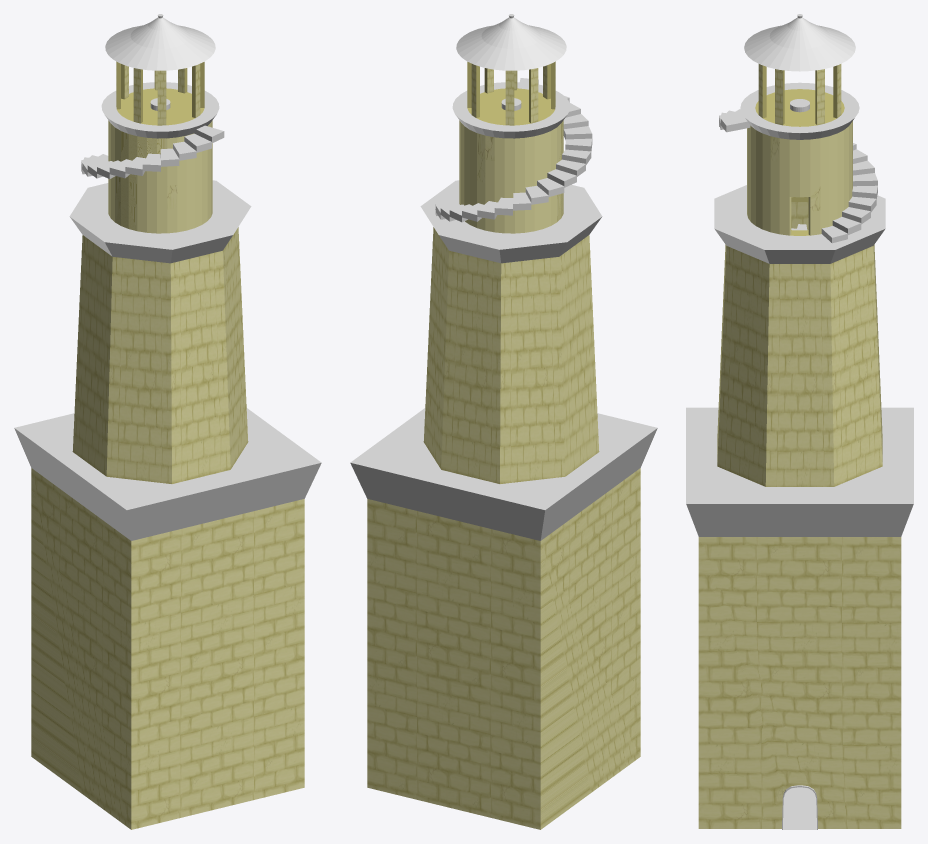
File: Lighthous.fbx
The picture shows the model from 3 angles, left to right: view 1: azimuth 30°, elevation 25°; view 2: azimuth 150°, elevation 25°; view 3: azimuth 270°, elevation 25°; orthographic projection.
Visible parts, largest first — view 1: Circle.001, Curved Stairs.003; view 2: Circle.001, Curved Stairs.003; view 3: Circle.001, Curved Stairs.003.
Boxes of the visible parts, x1=… form: Circle.001: x1=14, y1=14, x2=321, y2=829; Curved Stairs.003: x1=81, y1=125, x2=224, y2=178; Circle.001: x1=350, y1=14, x2=657, y2=829; Curved Stairs.003: x1=435, y1=78, x2=592, y2=222; Circle.001: x1=686, y1=14, x2=913, y2=829; Curved Stairs.003: x1=719, y1=109, x2=877, y2=243.
Bounding box in the file's own units: 215 × 801 × 215.
Materials: 2 (1 with a texture image).
